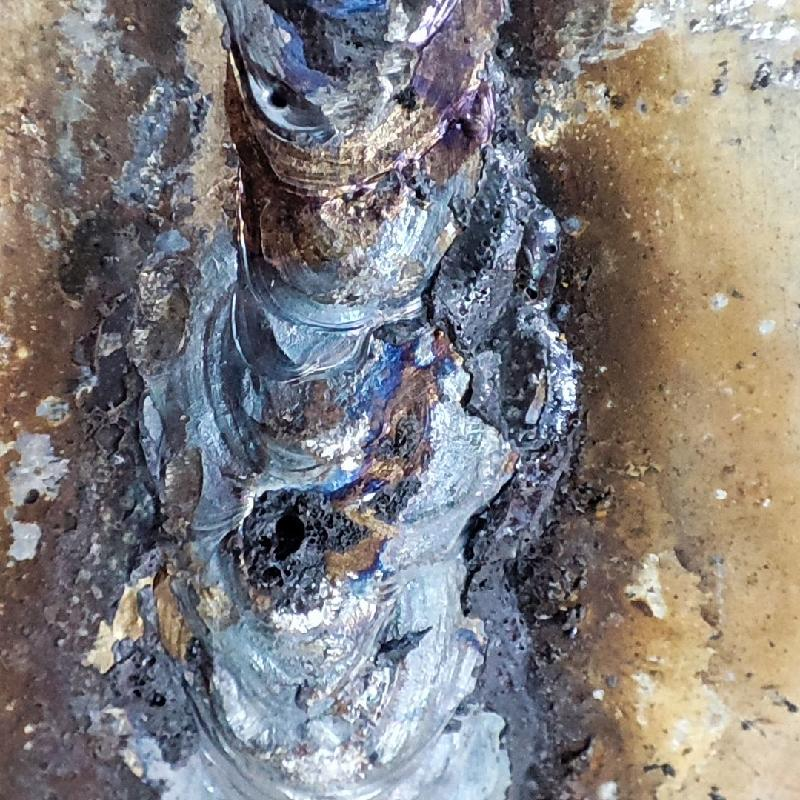Surface_pores: (240, 491, 335, 595), (248, 67, 307, 117)
